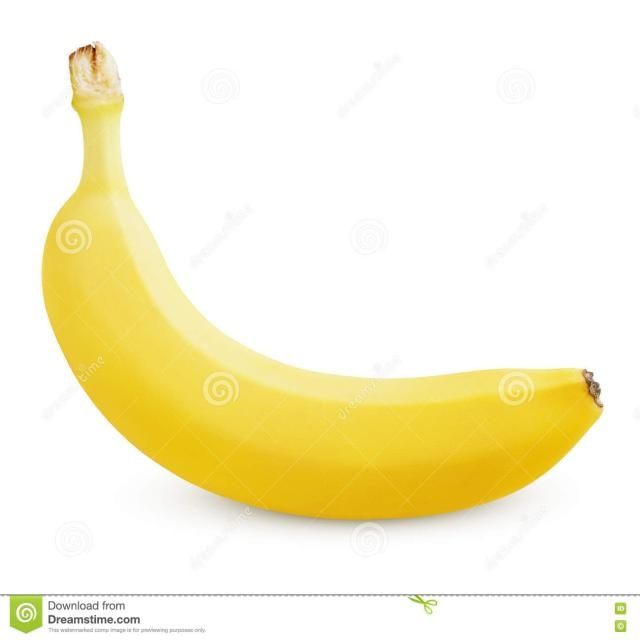agrume: (44, 38, 604, 525)
